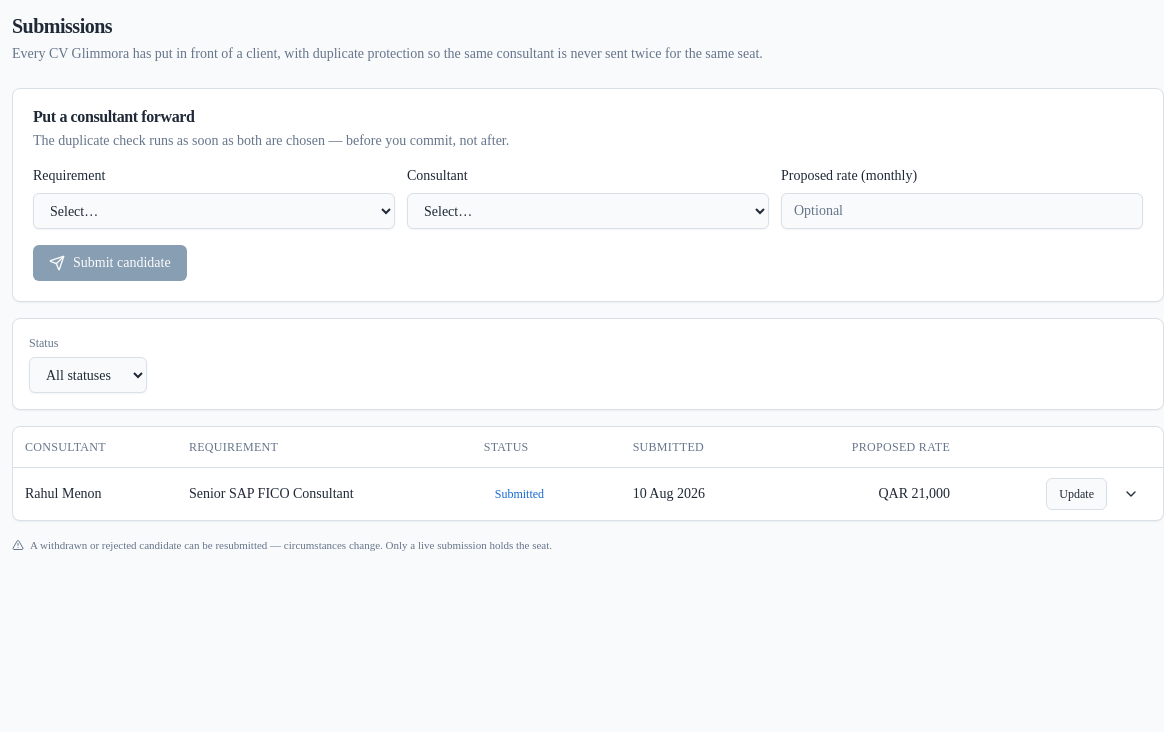
Scenario: submissions › requires a reason before rejecting
Click the button "Update": click(1077, 494) [1046, 478, 1107, 510]
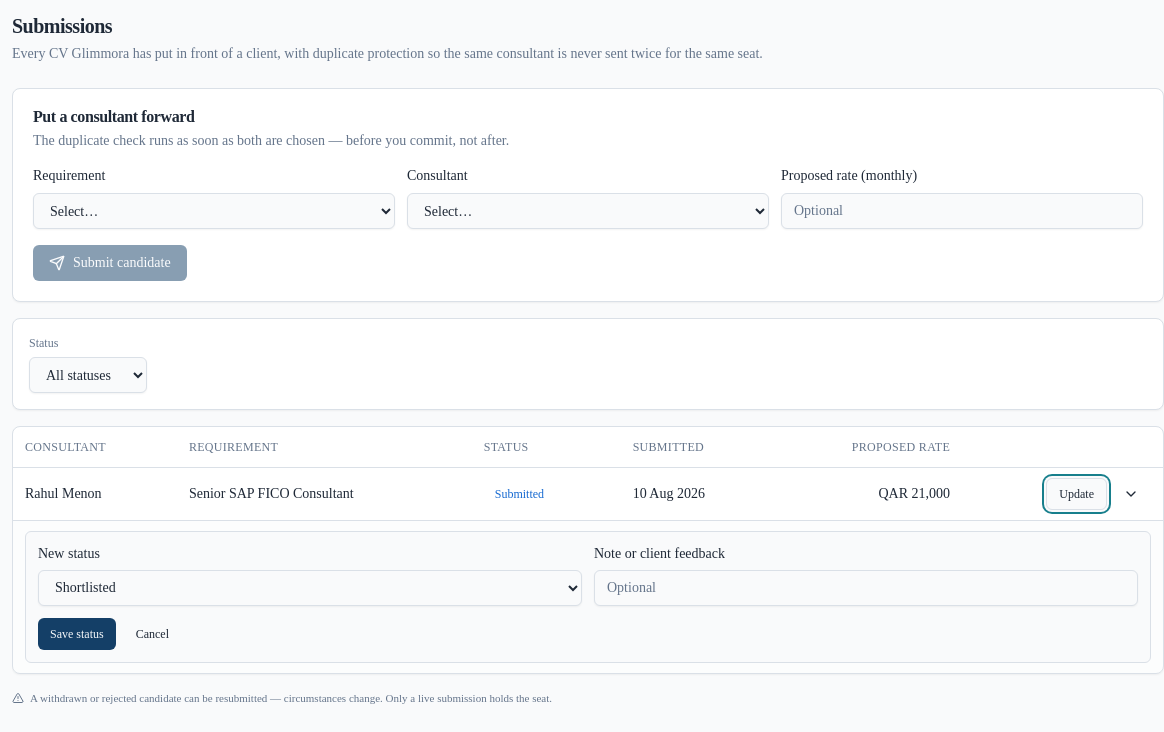
Select "Rejected" in the dropdown labelled "New status": (310, 588) [38, 570, 582, 606]
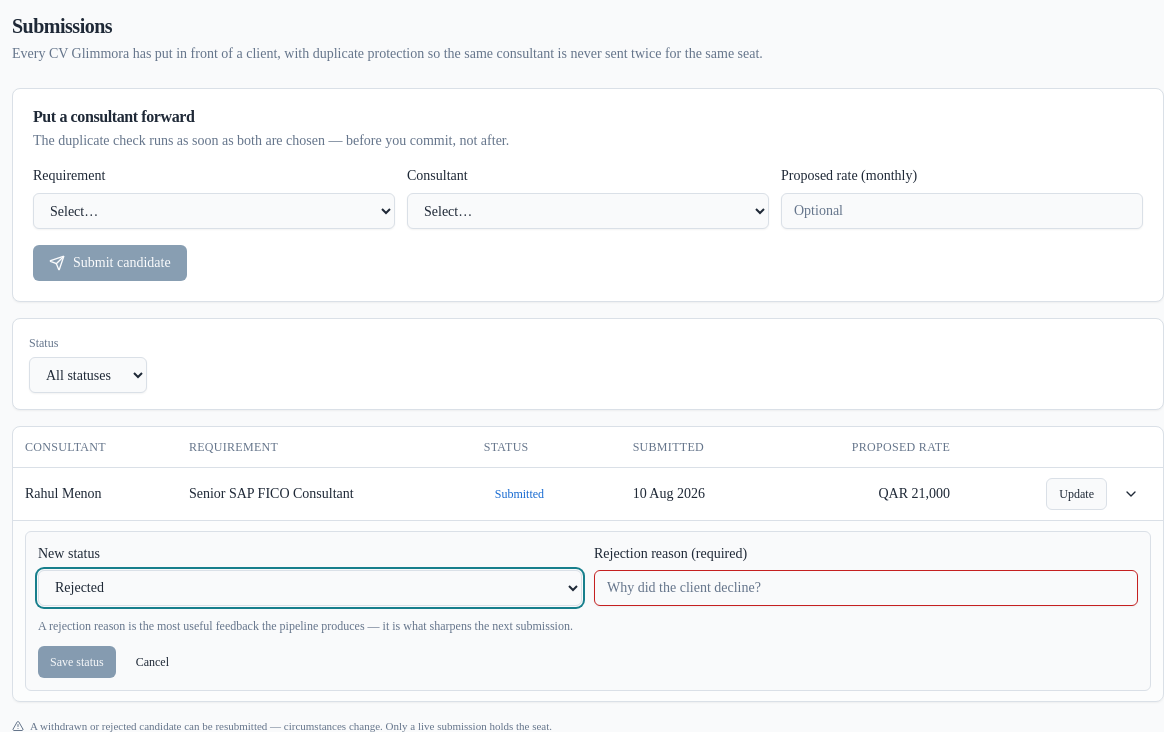
Result: the text "most useful feedback the pipeline produces" is shown at [38, 618, 573, 632]
Result: the button "Save status" is disabled at [38, 646, 116, 678]
